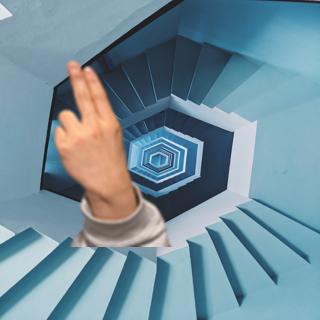DHAVE: (45, 56, 131, 196)
